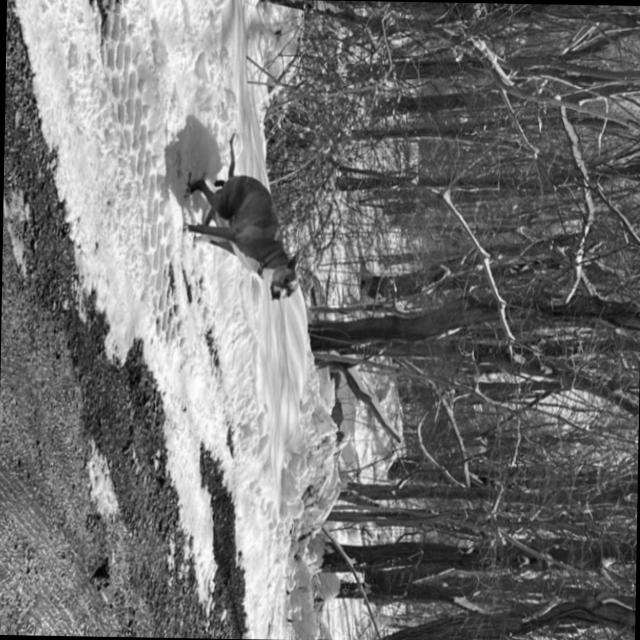squatting: (178, 130, 306, 306)
